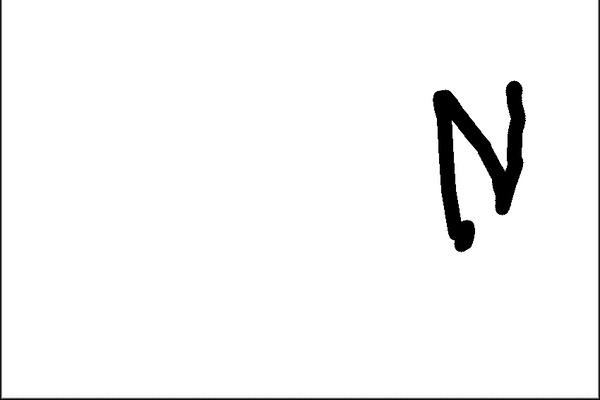N: (425, 73, 529, 253)
